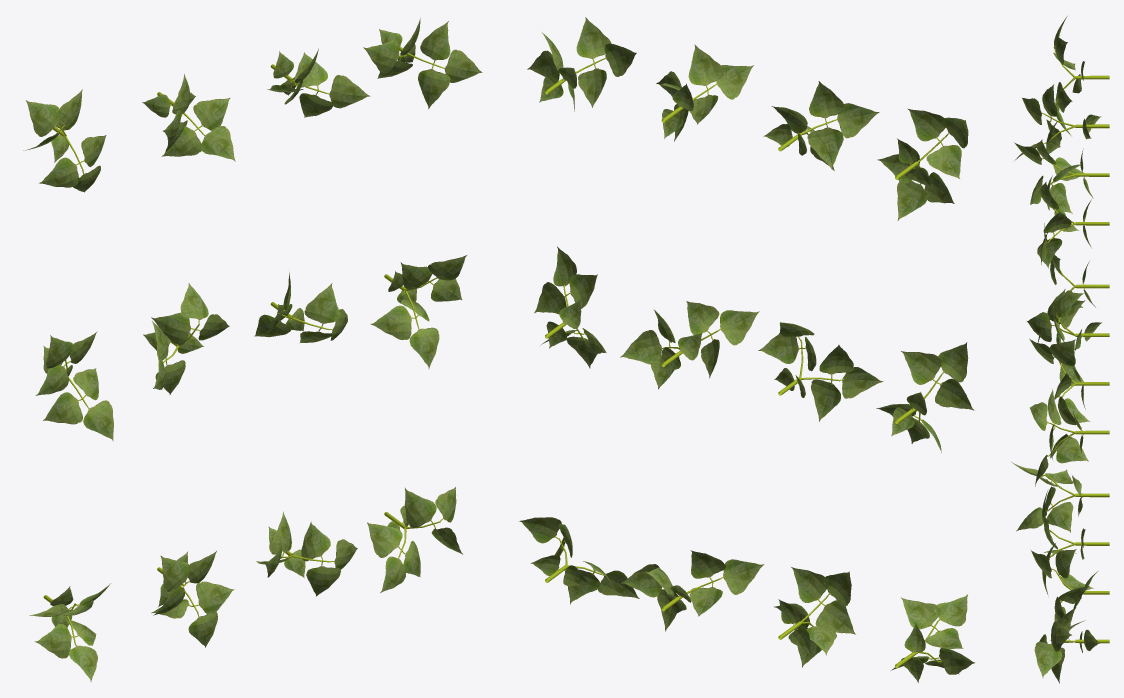
The model's file is plant_genotype2.obj.
The picture shows the model from 3 angles, left to right: view 1: azimuth 30°, elevation 25°; view 2: azimuth 150°, elevation 25°; view 3: azimuth 270°, elevation 25°; orthographic projection. The views are drawn at different scales.
Bounding box in the file's own units: 1.01 × 1.24 × 0.216.
2 materials, 1 textured.
